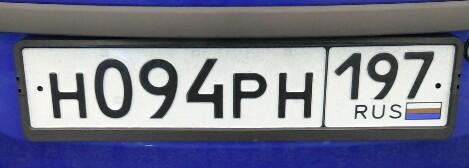license-plateSW: (18, 45, 458, 131)
